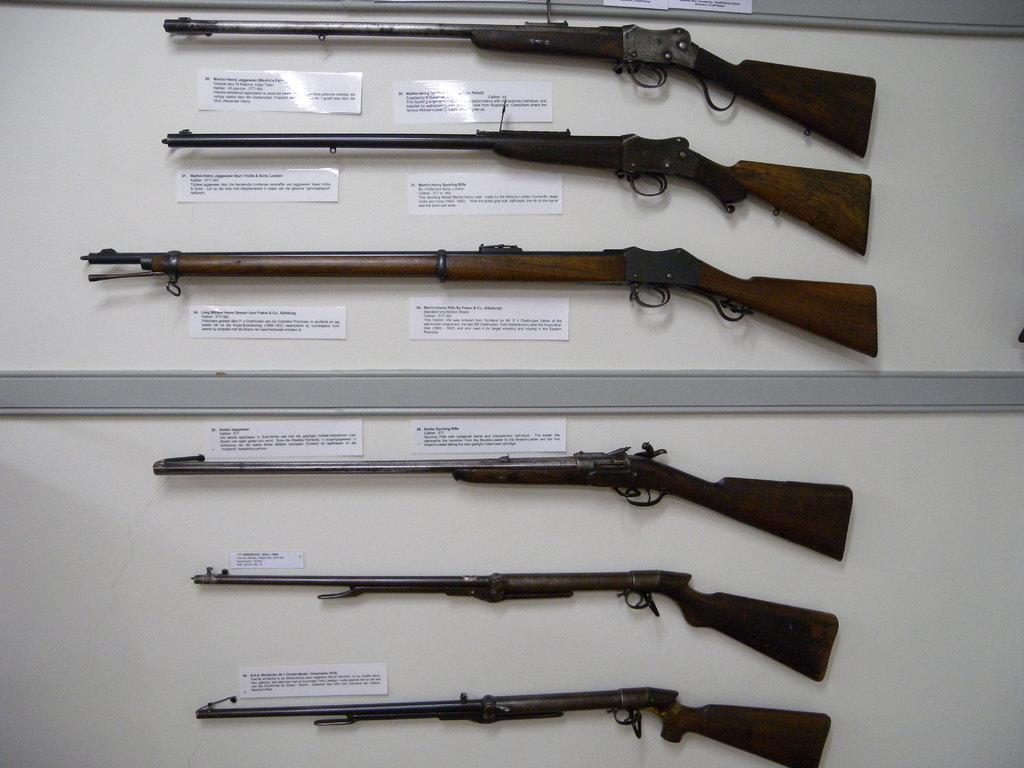Shotgun: (156, 18, 878, 159), (156, 125, 873, 262), (79, 246, 878, 360), (150, 440, 856, 566), (188, 560, 840, 687), (191, 683, 831, 767)
